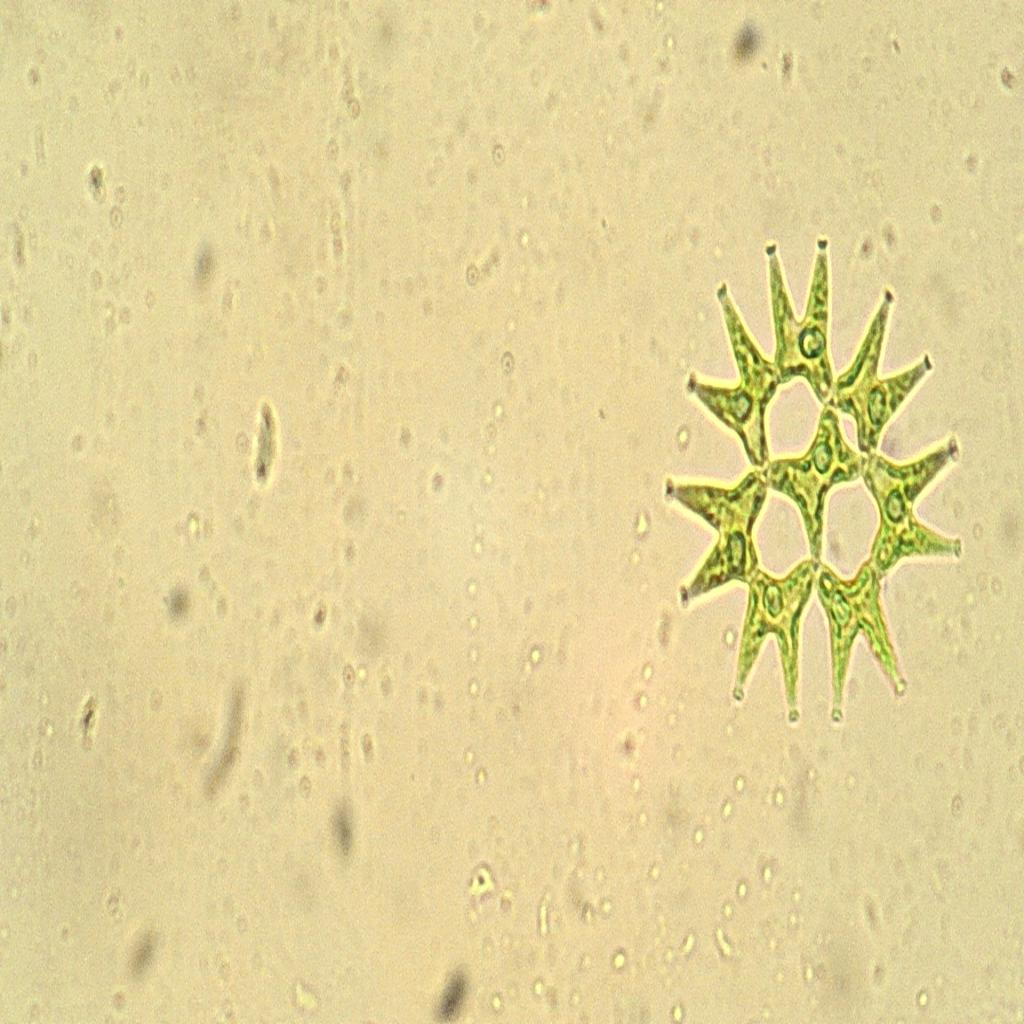Pediastrum_75T: (648, 210, 980, 762)
